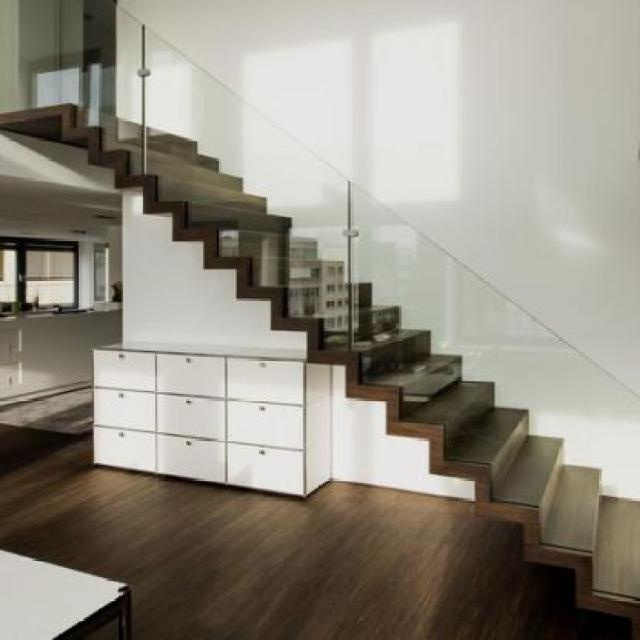stair: (2, 43, 640, 638)
